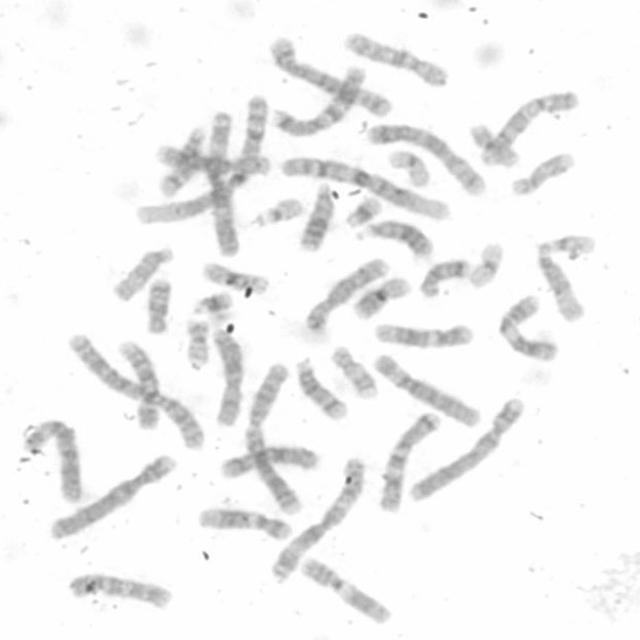A1: (131, 92, 269, 228), (280, 154, 456, 225)
A2: (64, 331, 206, 451), (243, 362, 305, 516)
A3: (269, 456, 366, 584), (206, 112, 243, 259)
B4: (406, 396, 526, 503), (48, 453, 179, 542)
B5: (264, 36, 394, 120), (366, 122, 488, 198)
C10: (341, 34, 453, 88), (66, 572, 173, 613)
C11: (300, 555, 395, 627), (497, 290, 558, 364)
C12: (196, 508, 296, 544), (373, 322, 474, 351)
C6: (371, 351, 483, 429), (18, 419, 87, 505)
C7: (268, 62, 368, 139), (376, 409, 443, 517)
C8: (302, 257, 391, 335), (152, 142, 272, 177)
C9: (479, 90, 582, 166), (112, 339, 162, 430)
D13: (352, 218, 435, 260), (297, 180, 335, 253)
D14: (154, 123, 207, 199), (292, 356, 348, 422)
D15: (536, 244, 586, 325), (110, 247, 175, 304)
E16: (351, 275, 414, 322), (201, 258, 270, 295)
E17: (509, 151, 577, 199), (331, 344, 379, 401)
E18: (418, 257, 474, 299), (145, 277, 174, 334)
F19: (468, 240, 505, 290), (387, 148, 432, 188)
F20: (468, 125, 521, 170), (185, 318, 212, 372)
G21: (344, 194, 385, 230), (192, 290, 232, 317)
G22: (253, 196, 303, 228), (549, 233, 597, 254)
X: (221, 444, 323, 482), (209, 328, 248, 427)
